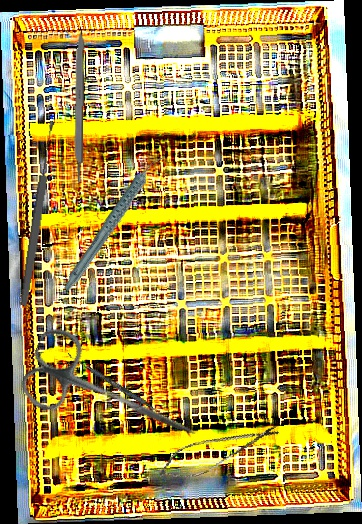Handpiece: (39, 152, 190, 294)
Iris Scissors: (14, 322, 213, 469)
Micro Scissor: (152, 413, 284, 489)
Scalpel Handle: (72, 29, 85, 183)
Spatula Surgical: (65, 353, 167, 417)
Surgical Spoon: (18, 120, 58, 307)
